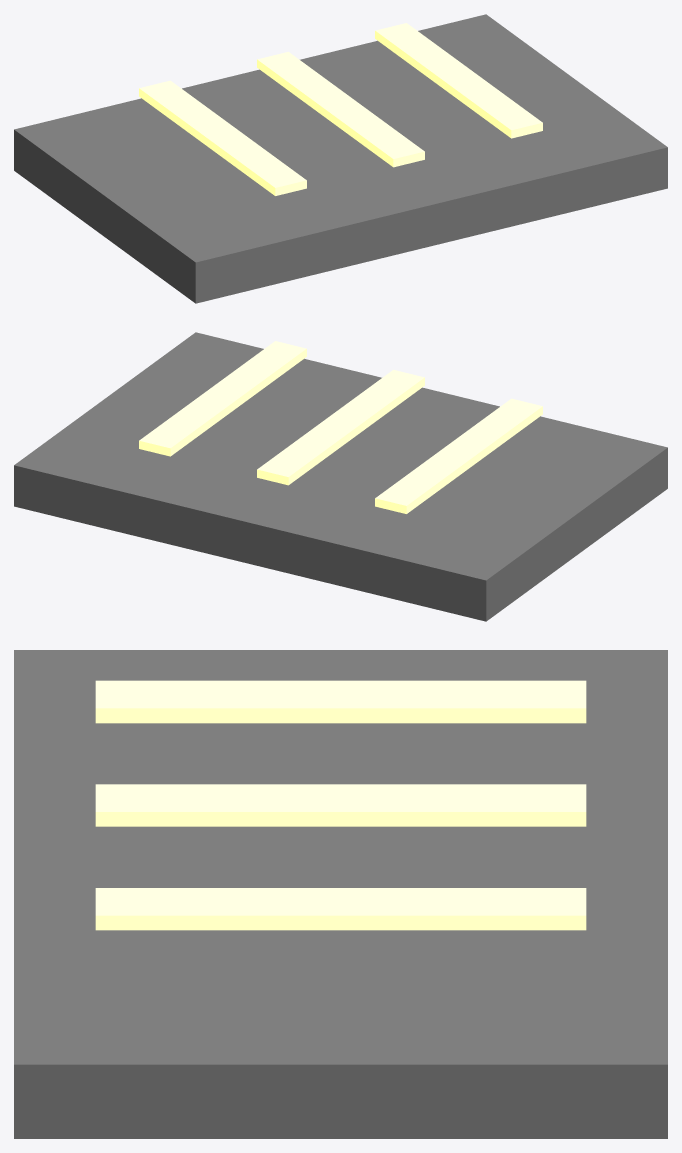
File: electric_panel.glb
The picture shows the model from 3 angles, top to bottom: view 1: azimuth 30°, elevation 25°; view 2: azimuth 150°, elevation 25°; view 3: azimuth 270°, elevation 25°; orthographic projection. The views are drawn at different scales.
Parts seen in each view (by area): view 1: Strip0.15; view 2: Strip0.15; view 3: Strip0.15.
Boxes of the visible parts, left/top/right/bottom form: Strip0.15: left=14, top=14, right=667, bottom=303; Strip0.15: left=14, top=332, right=667, bottom=621; Strip0.15: left=14, top=650, right=667, bottom=1138.
Bounding box in the file's own units: 0.6 × 0.09 × 0.4.
